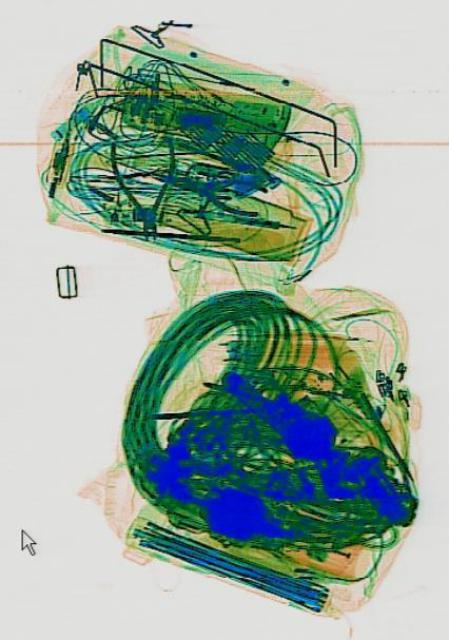Pliers: (106, 132, 181, 245), (147, 154, 266, 220)
